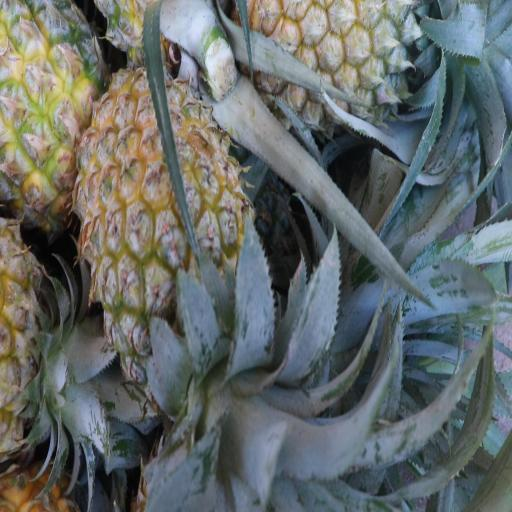------------------------------: (1, 0, 107, 263)
Pineapple - v8 v1: (69, 59, 264, 512), (217, 0, 441, 153)
